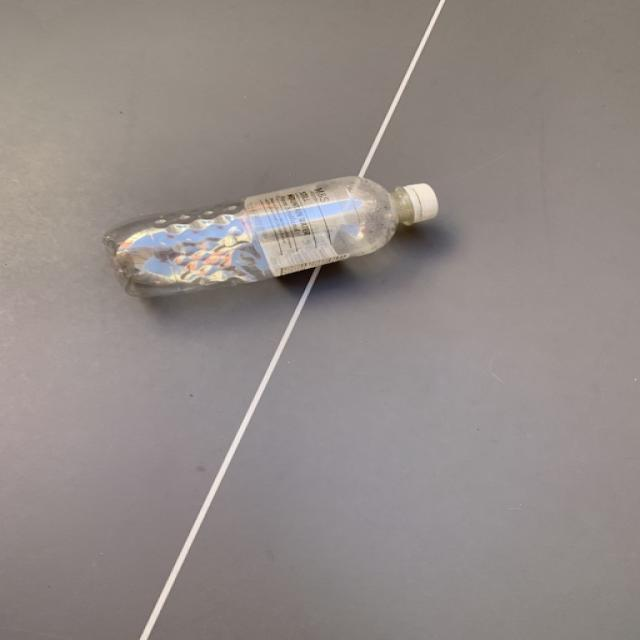Plastic: (103, 176, 439, 297)
